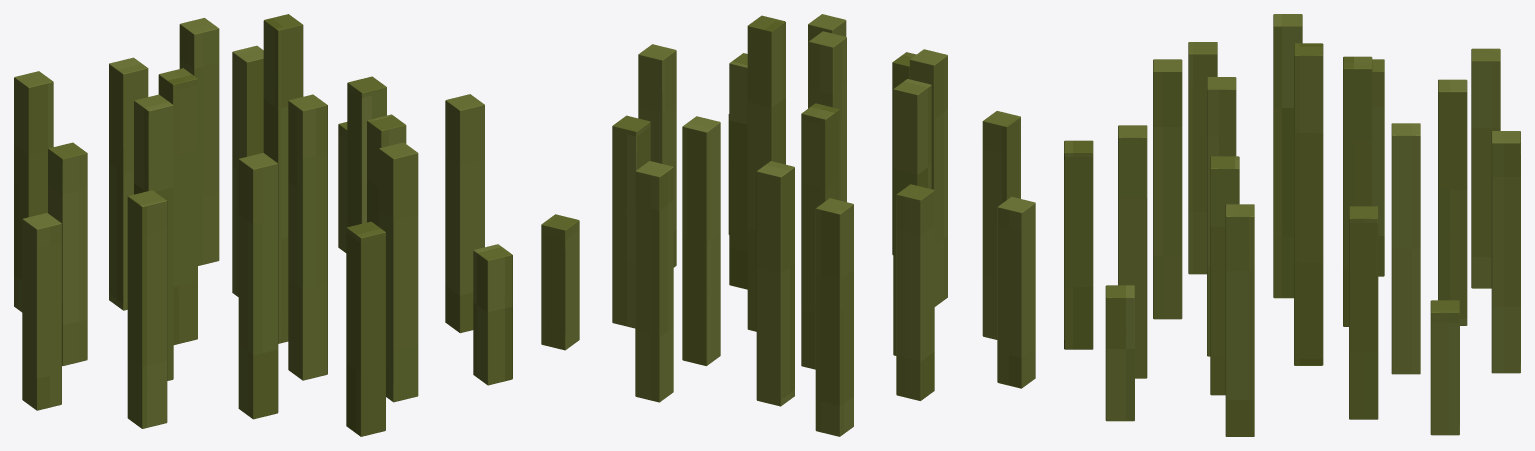
File: Shoots.glb
3 views of the same model, side by side, from view 1: azimuth 30°, elevation 25°; view 2: azimuth 150°, elevation 25°; view 3: azimuth 270°, elevation 25° (orthographic). The views are drawn at different scales.
Visible parts, largest first — view 1: Shoots; view 2: Shoots; view 3: Shoots.
Boxes of the visible parts, left/top/right/bottom form: Shoots: left=14, top=14, right=512, bottom=436; Shoots: left=541, top=14, right=1035, bottom=436; Shoots: left=1064, top=14, right=1520, bottom=436.
Size of the model in its own units: 0.2645 by 0.1878 by 0.2502.
1 material, 1 textured.
